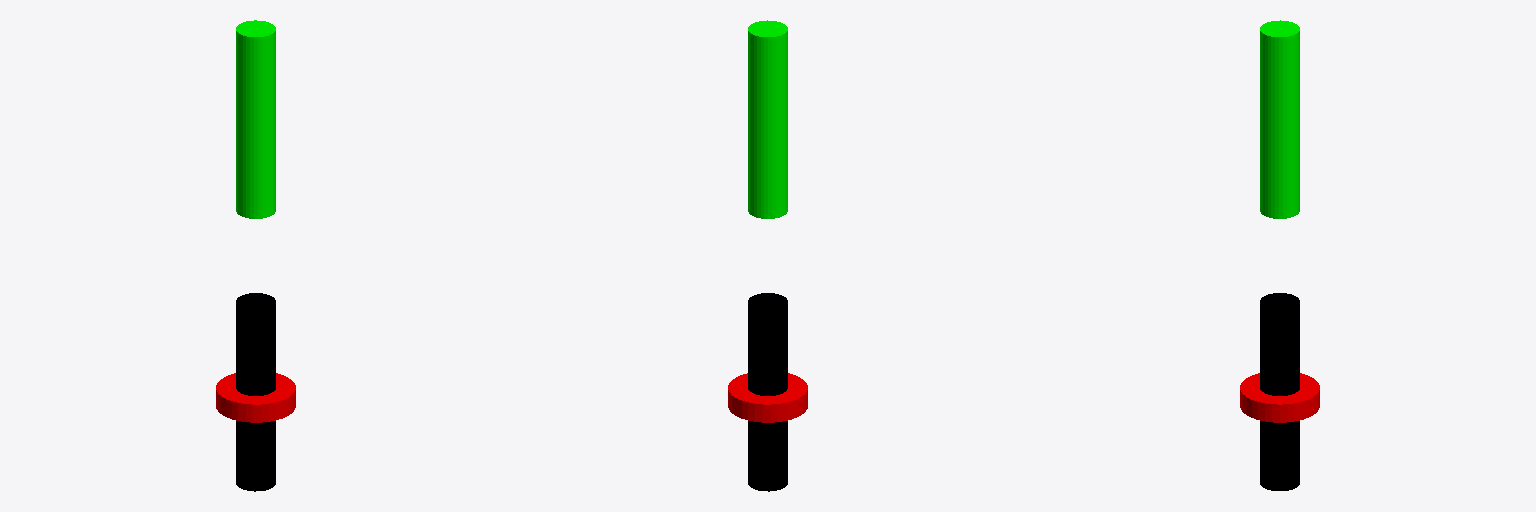
The robot description file, URDF, robot "4dof":
<robot name="4dof">
	<material name="white">
		<color rgba="1 1 1 1"/>
	</material>
	<material name="red">
		<color rgba="1 0 0 1"/>
	</material>
	<material name="green">
		<color rgba="0 1 0 1"/>
	</material>
	<material name="black">
		<color rgba="0 0 0 1"/>
	</material>

    <link name="world"/>
    <link name="base">
		<visual>
			<geometry>
				<cylinder length="0.05" radius="0.1"/>
			</geometry>
			<material name="red"/>
			<origin xyz="0 0 0" rpy="0 0 0"/> 
		</visual>
		<collision>
			<geometry>
				<cylinder length="0.05" radius="0.1"/>
			</geometry>
			<origin rpy="0 0 0" xyz="0 0 0"/> 
		</collision>
		<!-- Check intertial values-->
		<inertial>
			<mass value="1.0"/>
			<origin xyz="0 0 1" rpy="0 0 0" />
			<inertia ixx="0.0027" iyy="0.0027" izz="0.005" ixy="0" ixz="0" iyz="0"/>
		</inertial>	
	</link>

    <joint name="r_axis" type="revolute">
		<parent link="world"/>
		<child link="base"/>
		<origin xyz="0 0 0.025"	rpy="0 0 0"/>
		<axis xyz="0 0 1"/>
		<limit lower="0" upper="3.141592653589793" effort="0" velocity="0.174533"/>
	</joint>

	<link name="arm_section_1">
		<visual>
			<geometry>
				<cylinder length="0.5" radius="0.05"/>
			</geometry>
			<material name="black"/>
			<origin xyz="0 0 -0.25" rpy="0 0 0" /> 
		</visual>
		<collision>
			<geometry>
				<cylinder length="0.5" radius="0.05"/>
			</geometry>
			<origin rpy="0 0 -0.25" xyz="0 0 0"/> 
		</collision>
		<!-- Check intertial values-->
		<inertial>
			<mass value="1.0"/>
			<origin xyz="0 0 1" rpy="0 0 0" />
			<inertia ixx="0.0027" iyy="0.0027" izz="0.005" ixy="0" ixz="0" iyz="0"/>
		</inertial>
	</link>

    <joint name="base_to_arm_section_1" type="fixed">
		<parent link="base"/>
		<child link="arm_section_1"/>
		<origin xyz="0 0 0.2625"	rpy="0 0 0"/>
	</joint>

	<link name="arm_section_2">
		<visual>
			<geometry>
				<cylinder length="0.5" radius="0.05"/>
			</geometry>
			<material name="green"/>
			<origin rpy="0 0 -0.25" xyz="0 0 0"/> 
		</visual>
		<collision>
			<geometry>
				<cylinder length="0.5" radius="0.05"/>
			</geometry>
			<origin rpy="0 0 0" xyz="0 0 0"/> 
		</collision>
		<!-- Check intertial values-->
		<inertial>
			<mass value="1.0"/>
			<origin xyz="0 0 1" rpy="0 0 0" />
			<inertia ixx="0.0027" iyy="0.0027" izz="0.005" ixy="0" ixz="0" iyz="0"/>
		</inertial>
	</link>

    <joint name="arm_section_1_to_arm_section_2" type="revolute">
		<parent link="arm_section_1"/>
		<child link="arm_section_2"/>
		<origin xyz="0 0 0.5" rpy="0 0 0"/>
		<axis xyz="1 0 0"/>
		<limit lower="0" upper="1.57079632679" effort="0" velocity="0.174533"/>
	</joint>



</robot>

--- Facts derived from the render (not from the file) ---
Views: 3 orthographic renders of the robot side by side, from view 1: azimuth 30°, elevation 25°; view 2: azimuth 150°, elevation 25°; view 3: azimuth 270°, elevation 25°.
Model 4dof with 4 links and 3 joints (2 revolute, 1 fixed), rooted at world, posed all joints at 0.
Visible links, largest first — view 1: arm_section_2, arm_section_1, base; view 2: arm_section_2, arm_section_1, base; view 3: arm_section_2, arm_section_1, base.
Link boxes in pixels (<box>): arm_section_2: <box>236,20,275,218</box>; arm_section_1: <box>236,293,275,491</box>; base: <box>216,373,295,422</box>; arm_section_2: <box>748,20,787,218</box>; arm_section_1: <box>748,293,787,491</box>; base: <box>728,373,807,422</box>; arm_section_2: <box>1260,20,1299,218</box>; arm_section_1: <box>1260,293,1299,490</box>; base: <box>1240,373,1319,422</box>.
Bounding box of the posed robot: 0.2 × 0.2 × 1.25 m (x, y, z).
Geometry: primitives only (box / cylinder / sphere), no mesh files.